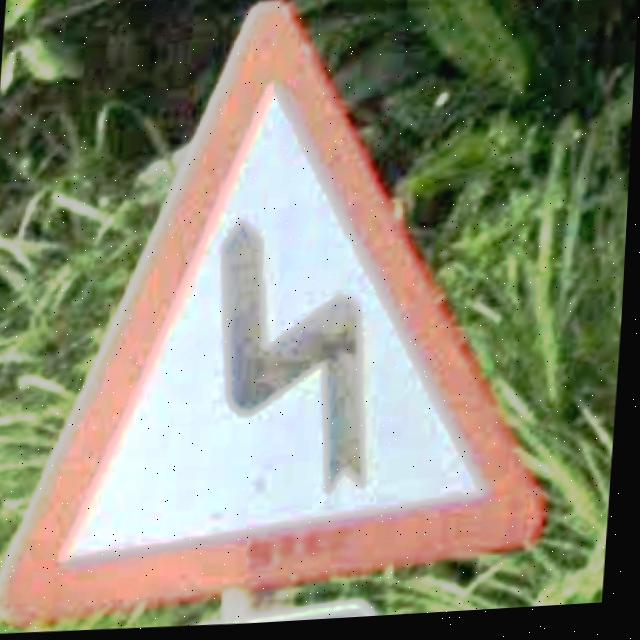doublebendleft: (0, 5, 555, 626)
